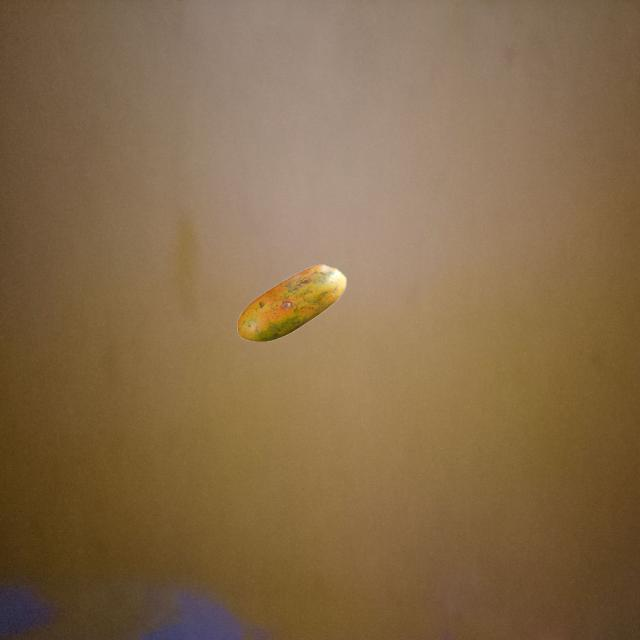Pepaya rippen: (234, 262, 352, 354)
